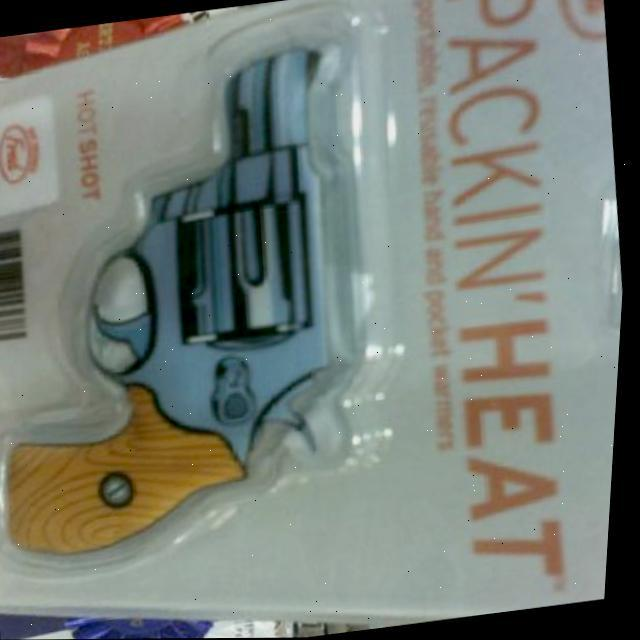gun: (0, 33, 402, 566)
